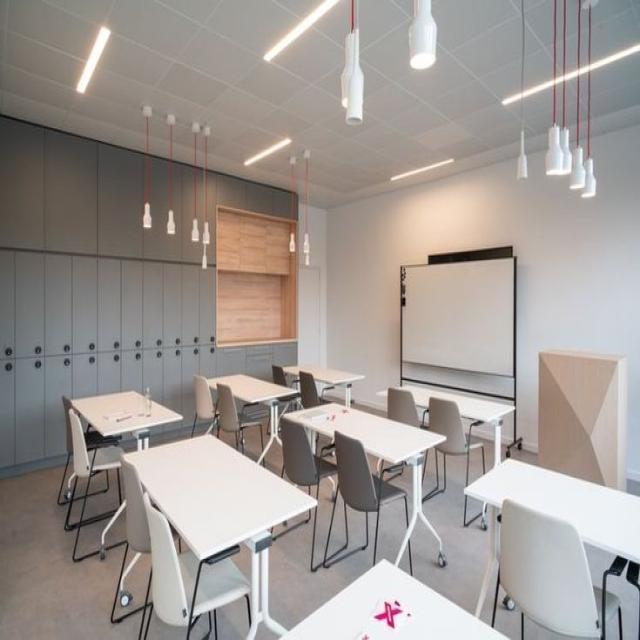obstacle: (118, 432, 318, 639), (462, 456, 639, 639), (281, 401, 448, 575), (495, 492, 622, 640), (278, 558, 510, 638), (142, 490, 254, 640), (329, 428, 415, 573), (64, 414, 130, 556), (206, 372, 300, 467), (429, 396, 487, 520)
